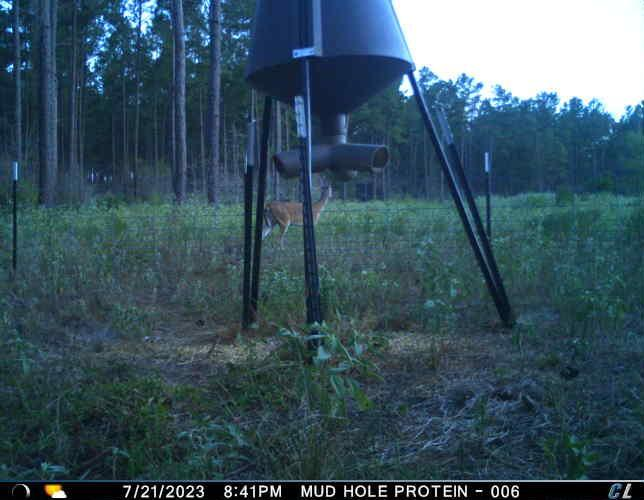Deer: (261, 175, 335, 251)
